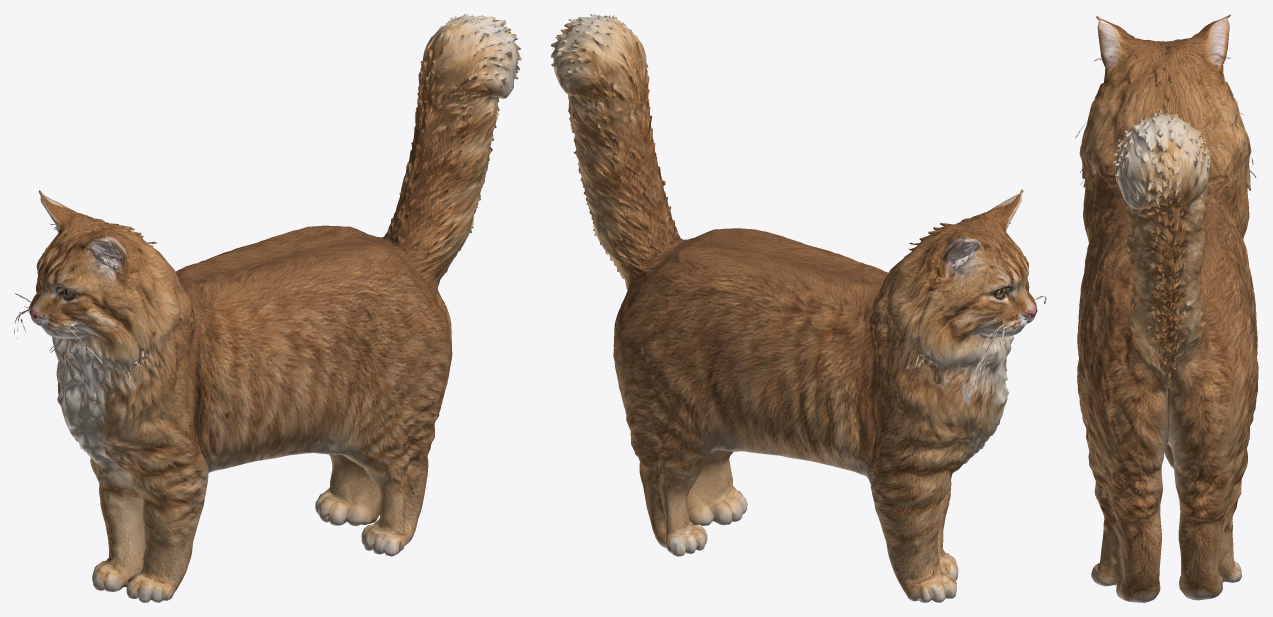
Rendered from COSMICGREG.glb.
3 views of the same model, side by side, from view 1: azimuth 30°, elevation 25°; view 2: azimuth 150°, elevation 25°; view 3: azimuth 270°, elevation 25° (orthographic). The views are drawn at different scales.
Parts seen in each view (by area): view 1: tripo_node_33d2e18d-96e4-4624-99b2-48c88b13b226; view 2: tripo_node_33d2e18d-96e4-4624-99b2-48c88b13b226; view 3: tripo_node_33d2e18d-96e4-4624-99b2-48c88b13b226.
Boxes of the visible parts, x1,y1,x2,y2 form: tripo_node_33d2e18d-96e4-4624-99b2-48c88b13b226: (14, 14, 521, 602); tripo_node_33d2e18d-96e4-4624-99b2-48c88b13b226: (550, 14, 1046, 602); tripo_node_33d2e18d-96e4-4624-99b2-48c88b13b226: (1075, 14, 1258, 602).
Bounding box in the file's own units: 1.02 × 0.9993 × 0.315.
1 material, 1 textured.
